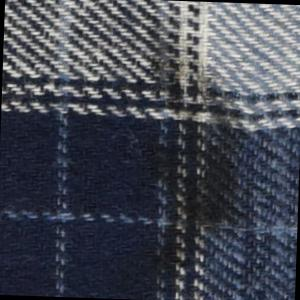Stain: (136, 53, 259, 279)
